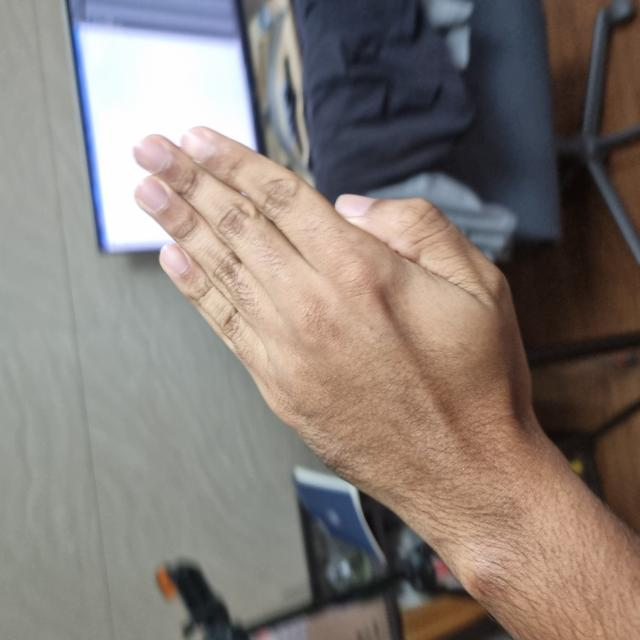Paper: (126, 136, 509, 529)
